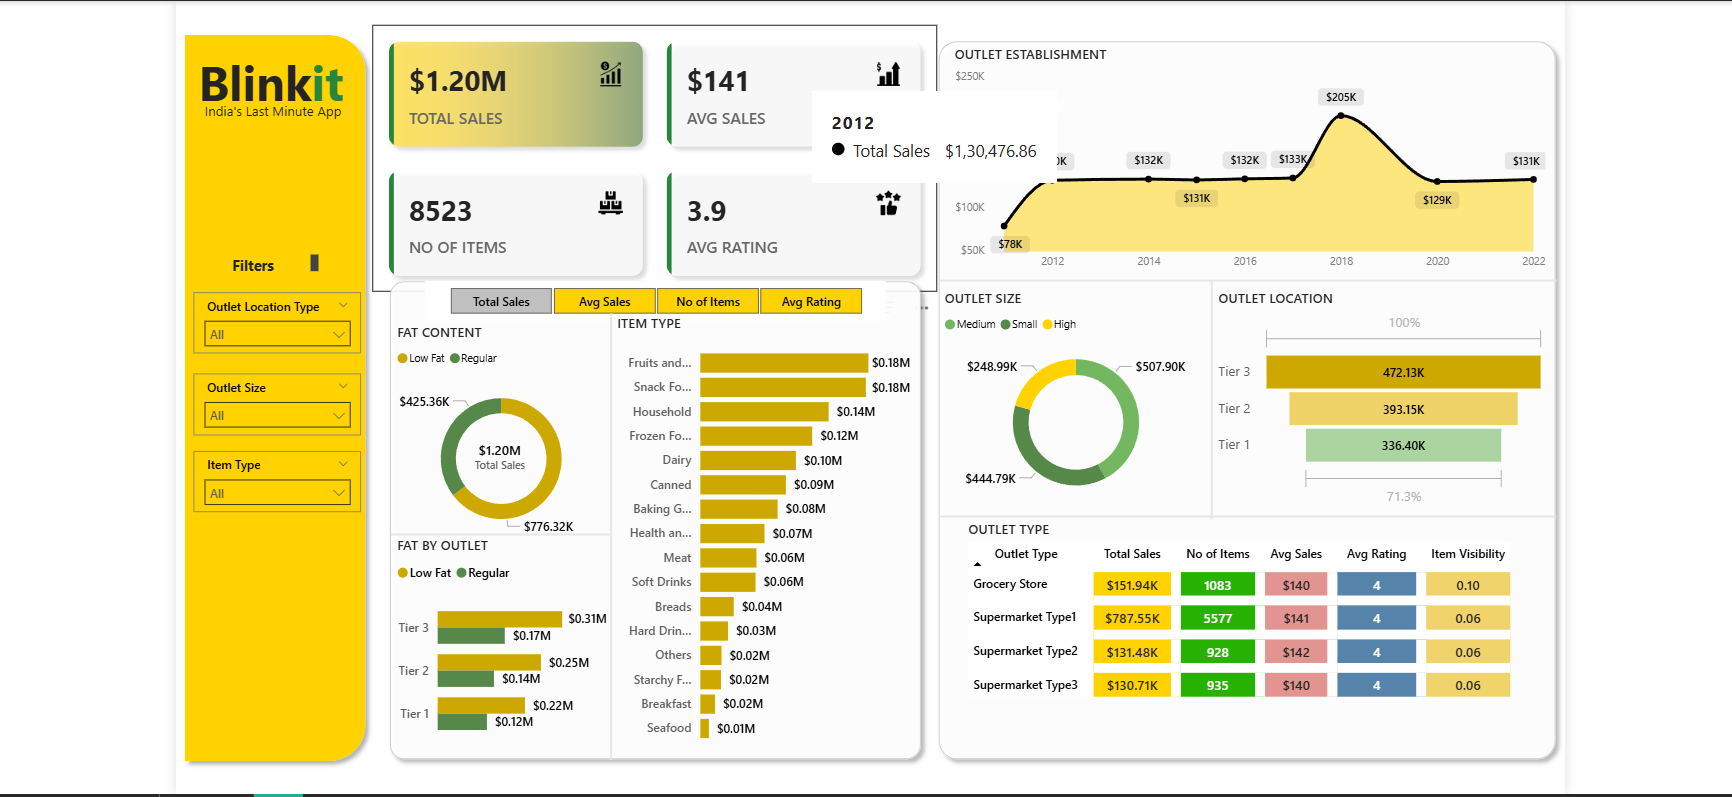

Layout of this report page (visuals, bound fields, positions):
{"tool":"powerbi","page":{"name":"Page 1","canvas":[1400,800],"ordinal":0},"visuals":[{"type":"shape","box":[0,25,200,750],"z":0},{"type":"textbox","box":[17.5,44.2,169.2,84.2],"z":1000},{"type":"textbox","box":[24.1,97.1,155.9,32.4],"z":2000},{"type":"cardVisual","fields":{"Data":["BlinkIT Grocery Data.Total Sales","BlinkIT Grocery Data.Avg Sales","BlinkIT Grocery Data.No of Items","BlinkIT Grocery Data.Avg Rating"]},"box":[198,24,570,270],"z":3000},{"type":"shape","box":[206.7,273.3,553.3,500],"z":4000},{"type":"donutChart","title":"FAT CONTENT","fields":{"Y":["BlinkIT Grocery Data.Total Sales"],"Category":["BlinkIT Grocery Data.Item Fat Content"]},"box":[218.3,323.3,220,230],"z":5000},{"type":"slicer","fields":{"Values":["Metrics.Metrics"]},"box":[251.2,282.5,465,40],"z":6000},{"type":"cardVisual","fields":{"Data":["BlinkIT Grocery Data.Total Sales"]},"box":[260,418,134,80],"z":7000},{"type":"clusteredBarChart","title":"FAT BY OUTLET","fields":{"Y":["BlinkIT Grocery Data.Total Sales"],"Category":["BlinkIT Grocery Data.Outlet Location Type"],"Series":["BlinkIT Grocery Data.Item Fat Content"]},"box":[218.6,540,221.4,220],"z":8000},{"type":"shape","box":[216.8,491.8,221.4,92.7],"z":9000},{"type":"shape","box":[421,314.5,35.5,450],"z":10000},{"type":"barChart","title":"ITEM TYPE","fields":{"Y":["BlinkIT Grocery Data.Total Sales"],"Category":["BlinkIT Grocery Data.Item Type"]},"box":[440,314.4,305.6,443.3],"z":11000},{"type":"shape","box":[760,32,640,742],"z":12000},{"type":"lineChart","title":"OUTLET ESTABLISHMENT","fields":{"Y":["BlinkIT Grocery Data.Total Sales"],"Category":["BlinkIT Grocery Data.Outlet Establishment Year"]},"box":[780,44.3,605.7,235.7],"z":13000},{"type":"shape","box":[768.3,235.8,623.3,92.5],"z":14000},{"type":"donutChart","title":"OUTLET SIZE","fields":{"Y":["BlinkIT Grocery Data.Total Sales"],"Category":["BlinkIT Grocery Data.Outlet Size"]},"box":[770,290.2,275,225],"z":15000},{"type":"shape","box":[1027.1,281.4,34.3,241.4],"z":16000},{"type":"funnel","title":"OUTLET LOCATION","fields":{"Y":["Sum(BlinkIT Grocery Data.Sales)"],"Category":["BlinkIT Grocery Data.Outlet Location Type"]},"box":[1046.1,290,340,225],"z":17000},{"type":"shape","box":[768.6,504.3,622.9,31.4],"z":18000},{"type":"pivotTable","title":"OUTLET TYPE","fields":{"Rows":["BlinkIT Grocery Data.Outlet Type"],"Values":["BlinkIT Grocery Data.Total Sales","BlinkIT Grocery Data.No of Items","BlinkIT Grocery Data.Avg Sales","BlinkIT Grocery Data.Avg Rating","Avg(BlinkIT Grocery Data.Item Visibility)"]},"box":[794.3,522.9,605.7,220],"z":19000},{"type":"slicer","fields":{"Values":["BlinkIT Grocery Data.Outlet Location Type"]},"box":[17.5,294.2,169.2,61.7],"z":20000},{"type":"slicer","fields":{"Values":["BlinkIT Grocery Data.Outlet Size"]},"box":[17.5,375.8,169.2,62.5],"z":21000},{"type":"slicer","fields":{"Values":["BlinkIT Grocery Data.Item Type"]},"box":[17.5,453.3,169.2,61.7],"z":22000},{"type":"textbox","box":[51.7,250.8,96.7,31.7],"z":22001}]}

Visuals, with their boxes on the page's 1400x800 design canvas (x1, y1, x2, y2). These are canvas units, not pixel positions in the 1732x797 screenshot, which may show the page scaled, cropped or inside an application window:
shape: x1=0 y1=25 x2=200 y2=775
textbox: x1=18 y1=44 x2=187 y2=128
textbox: x1=24 y1=97 x2=180 y2=130
cardVisual - BlinkIT Grocery Data.Total Sales x BlinkIT Grocery Data.Avg Sales: x1=198 y1=24 x2=768 y2=294
shape: x1=207 y1=273 x2=760 y2=773
"FAT CONTENT" donutChart: x1=218 y1=323 x2=438 y2=553
slicer - Metrics.Metrics: x1=251 y1=282 x2=716 y2=322
cardVisual - BlinkIT Grocery Data.Total Sales: x1=260 y1=418 x2=394 y2=498
"FAT BY OUTLET" clusteredBarChart: x1=219 y1=540 x2=440 y2=760
shape: x1=217 y1=492 x2=438 y2=584
shape: x1=421 y1=314 x2=456 y2=764
"ITEM TYPE" barChart: x1=440 y1=314 x2=746 y2=758
shape: x1=760 y1=32 x2=1400 y2=774
"OUTLET ESTABLISHMENT" lineChart: x1=780 y1=44 x2=1386 y2=280
shape: x1=768 y1=236 x2=1392 y2=328
"OUTLET SIZE" donutChart: x1=770 y1=290 x2=1045 y2=515
shape: x1=1027 y1=281 x2=1061 y2=523
"OUTLET LOCATION" funnel: x1=1046 y1=290 x2=1386 y2=515
shape: x1=769 y1=504 x2=1392 y2=536
"OUTLET TYPE" pivotTable: x1=794 y1=523 x2=1400 y2=743
slicer - BlinkIT Grocery Data.Outlet Location Type: x1=18 y1=294 x2=187 y2=356
slicer - BlinkIT Grocery Data.Outlet Size: x1=18 y1=376 x2=187 y2=438
slicer - BlinkIT Grocery Data.Item Type: x1=18 y1=453 x2=187 y2=515
textbox: x1=52 y1=251 x2=148 y2=282
